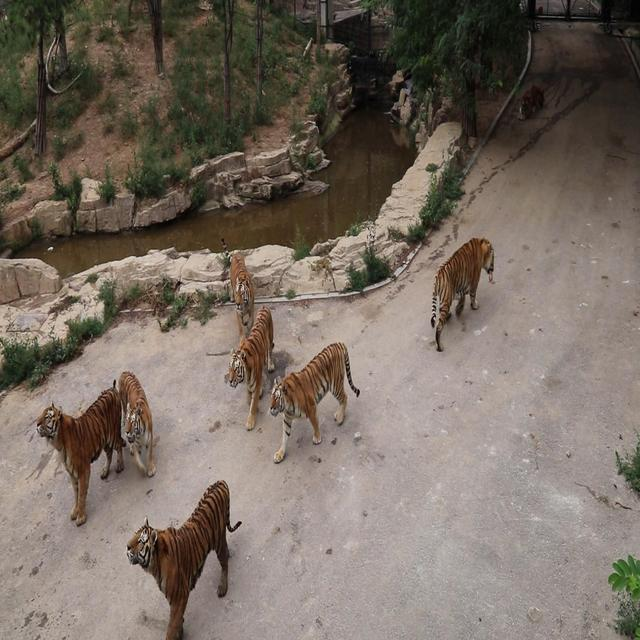tiger: (125, 479, 241, 639), (25, 382, 125, 526), (268, 340, 360, 463), (429, 236, 494, 351), (223, 304, 275, 430), (115, 370, 157, 478), (227, 251, 255, 337), (517, 84, 544, 120)
